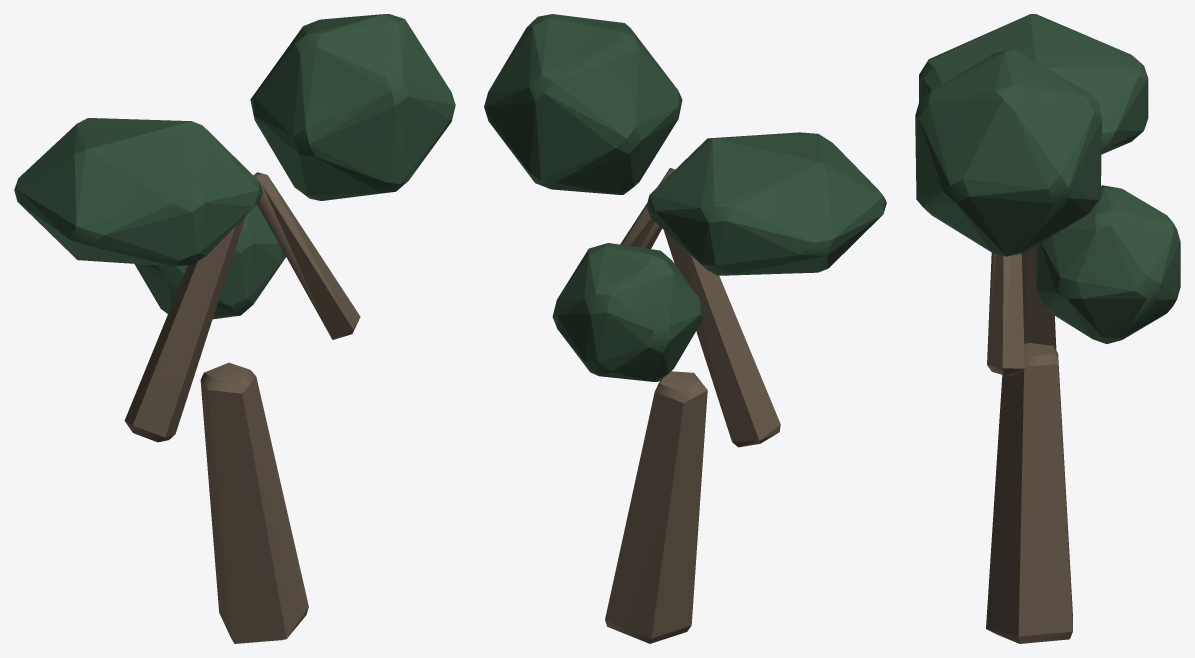
File: prop_juniper_lod1.glb
The picture shows the model from 3 angles, left to right: view 1: azimuth 30°, elevation 25°; view 2: azimuth 150°, elevation 25°; view 3: azimuth 270°, elevation 25°; orthographic projection. The views are drawn at different scales.
Parts seen in each view (by area): view 1: prop_juniper_lod1; view 2: prop_juniper_lod1; view 3: prop_juniper_lod1.
Part boxes in pixels (x1,y1,x2,y2): prop_juniper_lod1: (14,14,455,643); prop_juniper_lod1: (484,14,886,643); prop_juniper_lod1: (915,14,1180,643).
Size of the model in its own units: 1.77 by 2.68 by 1.06.
